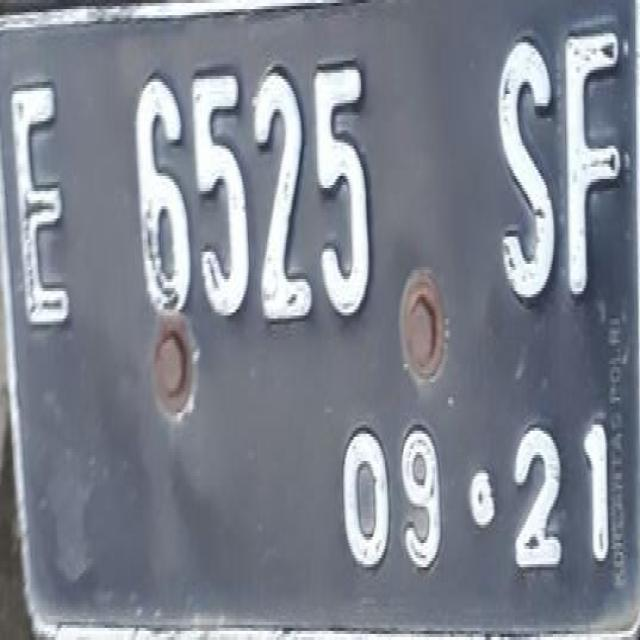2: (247, 31, 321, 348)
5: (184, 45, 259, 359), (314, 41, 377, 329)
6: (129, 57, 196, 341)
E: (3, 54, 79, 359)
F: (562, 16, 627, 310)
S: (486, 28, 560, 322)
